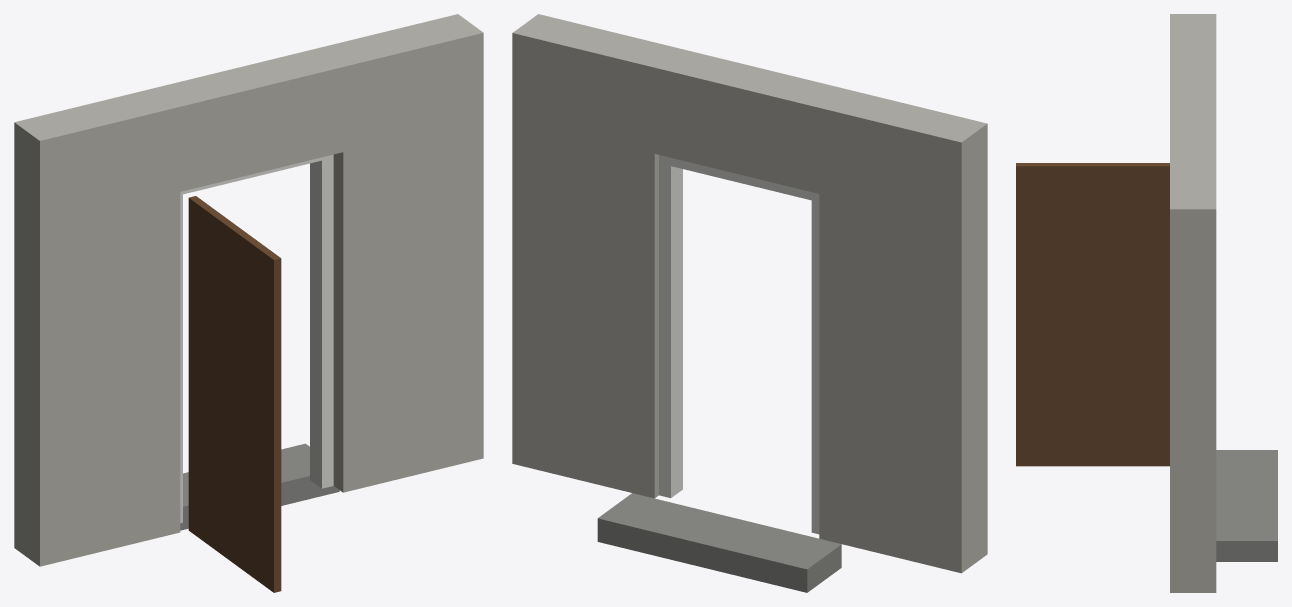
Rendered from Kit_panel_door.fbx.
3 renders of one model, left to right at view 1: azimuth 30°, elevation 25°; view 2: azimuth 150°, elevation 25°; view 3: azimuth 270°, elevation 25°, orthographic. The views are drawn at different scales.
Visible parts, largest first — view 1: WallJambL, WallJambR, DoorLeaf, WallAbove, FrameR, Step, FrameL; view 2: WallJambL, WallJambR, WallAbove, Step, FrameR, FrameL, FrameTop; view 3: DoorLeaf, WallJambR, Step, WallAbove, WallJambL.
Boxes of the visible parts, x1=… form: WallJambL: x1=14, y1=88, x2=180, y2=566; WallJambR: x1=318, y1=14, x2=483, y2=492; DoorLeaf: x1=188, y1=196, x2=281, y2=592; WallAbove: x1=155, y1=48, x2=343, y2=191; FrameR: x1=310, y1=154, x2=333, y2=488; Step: x1=180, y1=443, x2=339, y2=530; FrameL: x1=180, y1=191, x2=182, y2=523; WallJambL: x1=819, y1=89, x2=987, y2=573; WallJambR: x1=512, y1=14, x2=679, y2=498; WallAbove: x1=654, y1=48, x2=844, y2=193; Step: x1=597, y1=493, x2=841, y2=592; FrameR: x1=659, y1=155, x2=682, y2=498; FrameL: x1=811, y1=192, x2=819, y2=534; FrameTop: x1=662, y1=157, x2=816, y2=200; DoorLeaf: x1=1016, y1=163, x2=1169, y2=466; WallJambR: x1=1170, y1=147, x2=1216, y2=592; Step: x1=1216, y1=450, x2=1277, y2=561; WallAbove: x1=1170, y1=75, x2=1216, y2=147; WallJambL: x1=1170, y1=14, x2=1216, y2=75.
Bounding box in the file's own units: 300 × 170 × 290.
